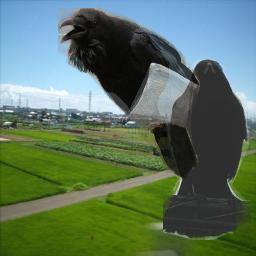Crow: (58, 8, 200, 182), (163, 59, 251, 240)
